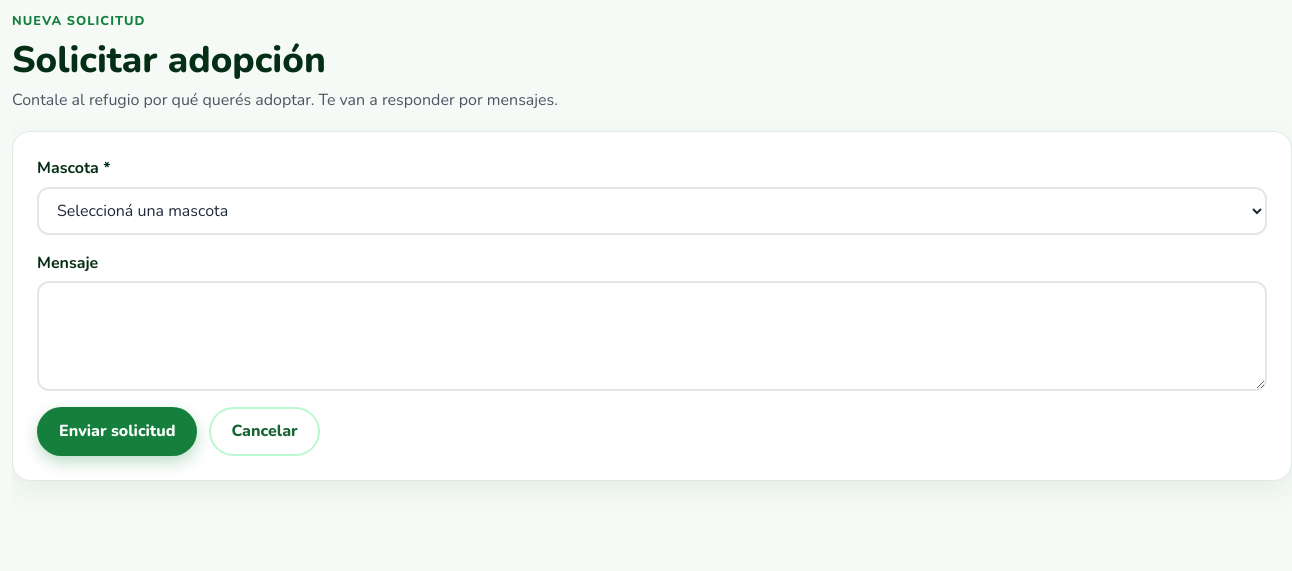
SolicitudFormPage › mantiene el formulario y muestra errores reales del servicio
Select "Mora (Perro)" in the dropdown labelled "Mascota *" at (652, 211), box [37,187,1267,235]
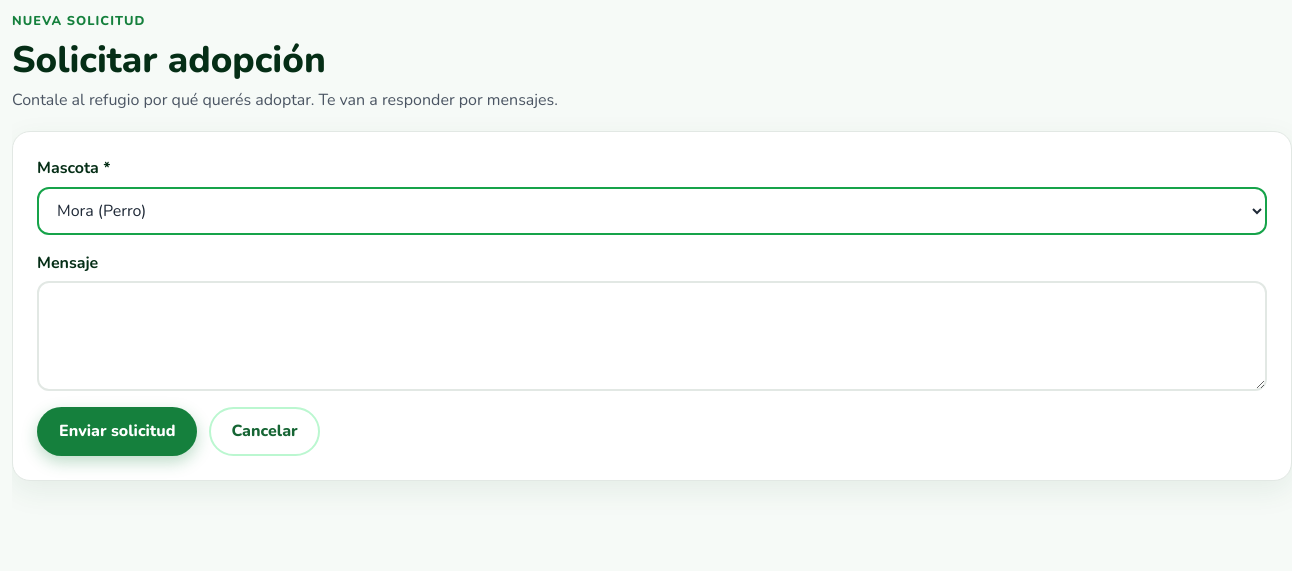
Click the button "Enviar solicitud" at (117, 432), box [37,407,198,456]
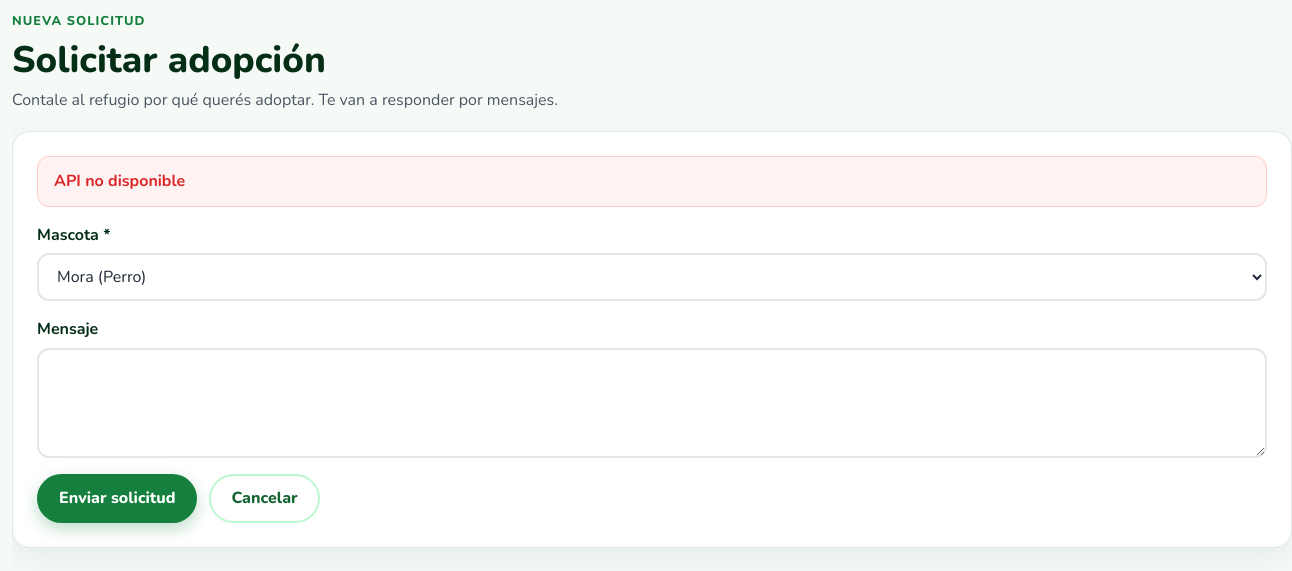
Check: the heading "Solicitar adopción" is shown, box [12,35,326,85]
Check: the message reads "API no disponible", box [54,170,185,192]
